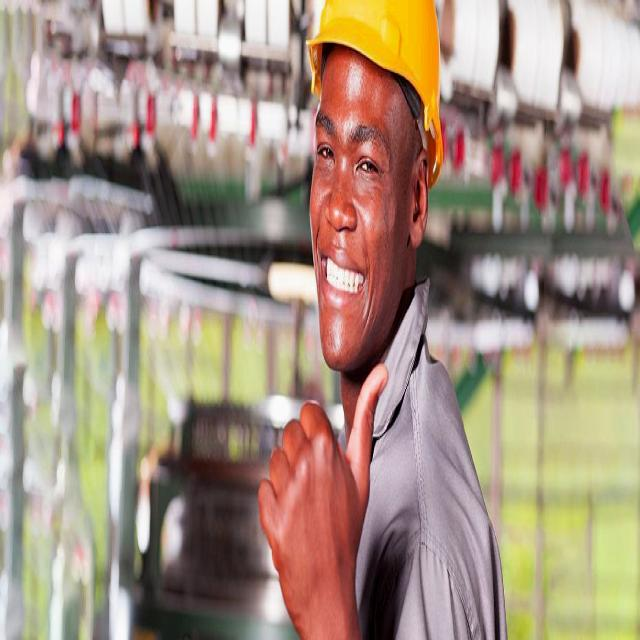face_nomask: (303, 80, 401, 363)
hand_noglove: (260, 376, 387, 630)
head_helmet: (292, 0, 445, 127)
person: (271, 4, 500, 640)
